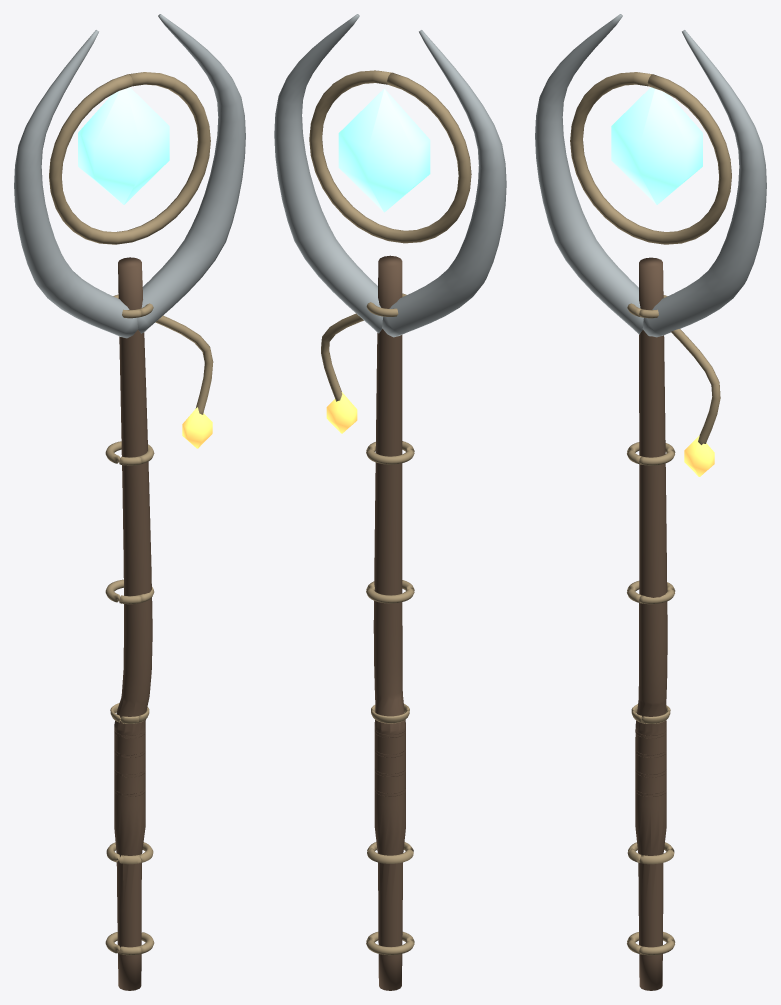
File: hexer-fitted.glb
3 views of the same model, side by side, from view 1: azimuth 30°, elevation 25°; view 2: azimuth 150°, elevation 25°; view 3: azimuth 330°, elevation 25° (orthographic).
Visible parts, largest first — view 1: Weapon__silver, Weapon__leather, Weapon__gold, Weapon__soul, Weapon__ember; view 2: Weapon__silver, Weapon__leather, Weapon__gold, Weapon__soul, Weapon__ember; view 3: Weapon__silver, Weapon__leather, Weapon__gold, Weapon__soul, Weapon__ember.
Boxes of the visible parts, x1,y1,x2,y2 form: Weapon__silver: (14, 14, 245, 338); Weapon__leather: (114, 257, 152, 990); Weapon__gold: (49, 72, 213, 955); Weapon__soul: (78, 87, 169, 204); Weapon__ember: (182, 407, 212, 448); Weapon__silver: (274, 14, 506, 337); Weapon__leather: (373, 255, 405, 990); Weapon__gold: (309, 70, 471, 955); Weapon__soul: (338, 88, 430, 212); Weapon__ember: (326, 392, 357, 433); Weapon__silver: (535, 14, 766, 337); Weapon__leather: (635, 257, 667, 990); Weapon__gold: (570, 72, 731, 955); Weapon__soul: (611, 87, 702, 204); Weapon__ember: (684, 435, 714, 476).
Bounding box in the file's own units: 0.5509 × 2.22 × 0.156.
